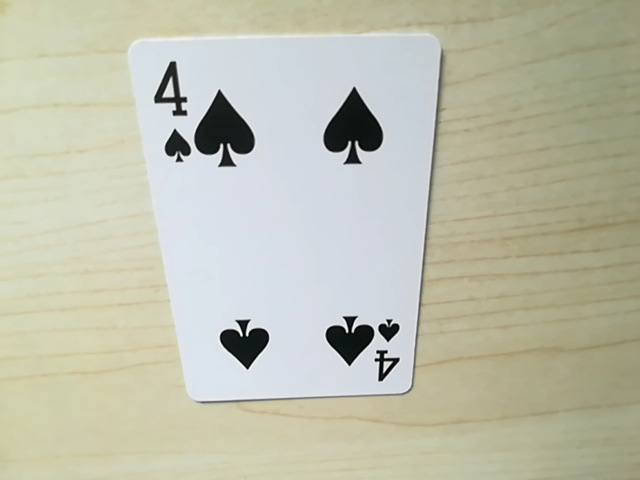ht 4: (150, 55, 203, 170), (363, 314, 405, 386)
